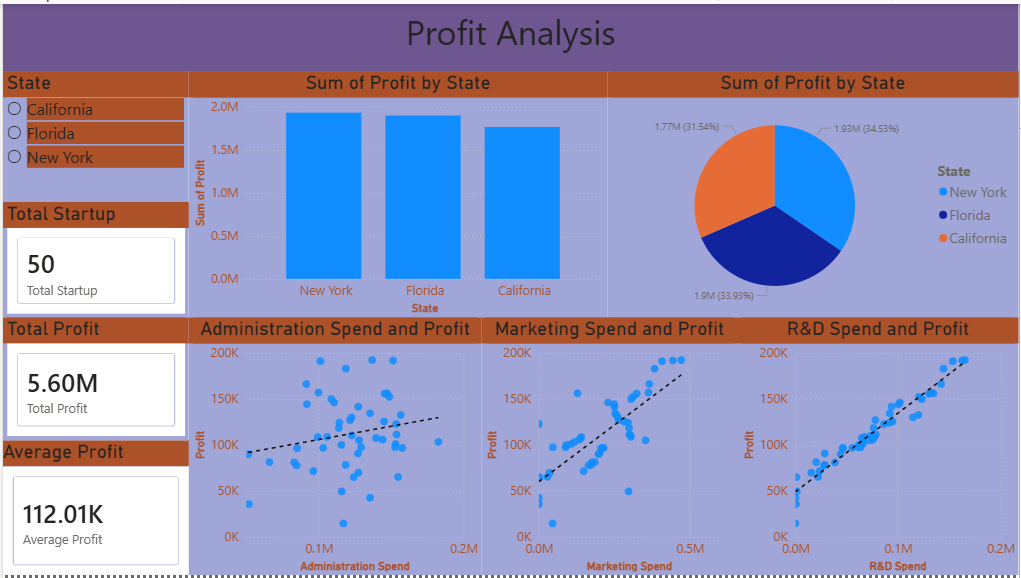

The dashboard page shown, as its layout file describes it:
{"tool":"powerbi","page":{"name":"Dashboard","canvas":[1280,720],"ordinal":0},"visuals":[{"type":"listSlicer","fields":{"Values":["startup.State"]},"box":[0,85,234.3,164.4],"z":0},{"type":"cardVisual","title":"Total Startup","fields":{"Data":["startup.Total Startup"]},"box":[0,249.5,234.3,145.5],"z":1000},{"type":"cardVisual","title":"Total Profit","fields":{"Data":["startup.Total Profit"]},"box":[0,395,234.3,155],"z":2000},{"type":"cardVisual","title":"Average Profit","fields":{"Data":["startup.Average Profit"]},"box":[0,549.9,234.3,170.1],"z":3000},{"type":"clusteredColumnChart","fields":{"Category":["startup.State"],"Y":["Sum(startup.Profit)"]},"box":[234.3,85,527.2,309.9],"z":4000},{"type":"pieChart","fields":{"Category":["startup.State"],"Y":["Sum(startup.Profit)"]},"box":[761.6,85,517.8,309.9],"z":5000},{"type":"scatterChart","fields":{"X":["startup.Administration"],"Y":["startup.Profit"]},"box":[234.3,395,368.5,325],"z":6000},{"type":"scatterChart","title":"Marketing Spend and Profit","fields":{"X":["startup.Marketing_Spend"],"Y":["startup.Profit"]},"box":[602.8,395,323.2,325],"z":7000},{"type":"scatterChart","title":"R&D Spend and Profit","fields":{"X":["startup.RD_Spend"],"Y":["startup.Profit"]},"box":[926,395,353.4,325],"z":8000},{"type":"textbox","box":[0,0,1279.4,85],"z":9000}]}

Visuals, with their boxes in screenshot pixels (x1, y1, x2, y2), scaled from the page's 1280x720 canvas onto the 1021x578 screenshot:
listSlicer - startup.State: 0,68,187,200
"Total Startup" cardVisual: 0,200,187,317
"Total Profit" cardVisual: 0,317,187,442
"Average Profit" cardVisual: 0,441,187,577
clusteredColumnChart - startup.State x Sum(startup.Profit): 187,68,607,317
pieChart - startup.State x Sum(startup.Profit): 607,68,1020,317
scatterChart - startup.Administration x startup.Profit: 187,317,481,577
"Marketing Spend and Profit" scatterChart: 481,317,739,577
"R&D Spend and Profit" scatterChart: 739,317,1020,577
textbox: 0,0,1020,68
